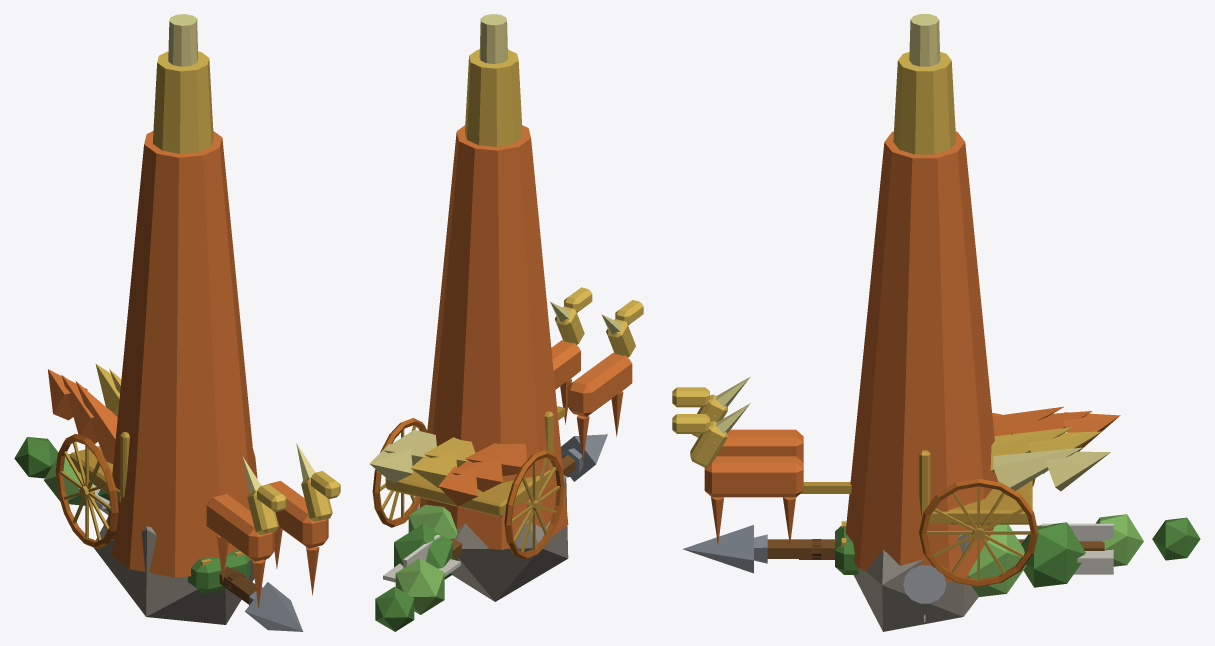
Rendered from items.glb.
3 views of the same model, side by side, from view 1: azimuth 30°, elevation 25°; view 2: azimuth 150°, elevation 25°; view 3: azimuth 270°, elevation 25° (orthographic). The views are drawn at different scales.
Parts seen in each view (by area): view 1: proj_fire, proj_chariot, proj_stone, proj_snake, proj_arrow; view 2: proj_fire, proj_chariot, proj_snake, proj_stone, proj_arrow; view 3: proj_fire, proj_chariot, proj_snake, proj_stone, proj_arrow, weapon_trombeta.
Boxes of the visible parts, x1,y1,x2,y2 form: proj_fire: [106, 14, 255, 577]; proj_chariot: [48, 364, 340, 608]; proj_stone: [93, 517, 266, 624]; proj_snake: [14, 437, 250, 593]; proj_arrow: [78, 483, 303, 631]; proj_fire: [419, 14, 568, 549]; proj_chariot: [369, 287, 643, 559]; proj_snake: [375, 504, 457, 631]; proj_stone: [422, 475, 568, 601]; proj_arrow: [383, 434, 607, 582]; proj_fire: [845, 14, 998, 581]; proj_chariot: [672, 376, 1120, 586]; proj_snake: [799, 514, 1200, 596]; proj_stone: [853, 530, 978, 631]; proj_arrow: [682, 523, 1113, 574]; weapon_trombeta: [903, 565, 946, 603].
Size of the model in its own units: 1.92 by 7.38 by 5.88.
